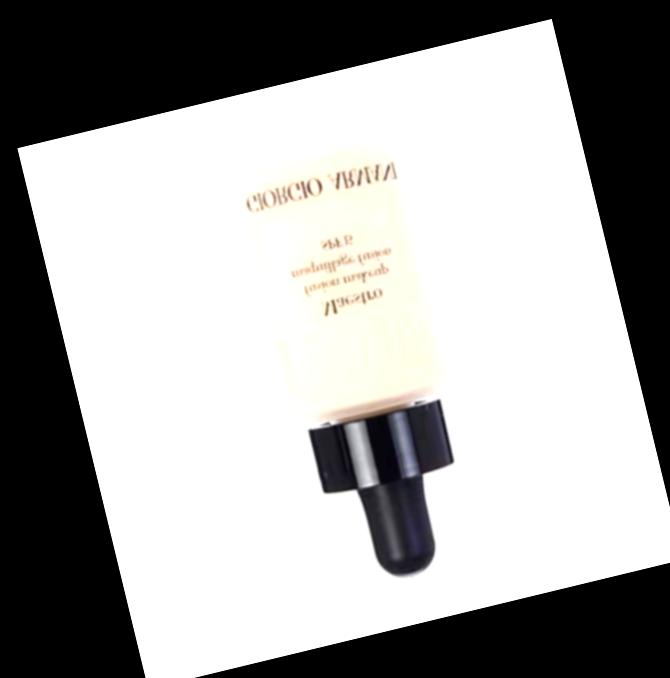cosmetic: (199, 104, 513, 602)
